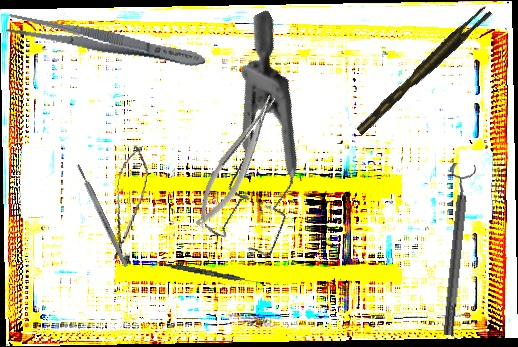Dressing Forceps: (3, 9, 209, 75)
Fixation Ring: (433, 162, 479, 337)
Micro Scissor: (104, 142, 153, 264)
Needle Holder: (184, 90, 290, 234)
Scalpel Handle: (75, 163, 129, 268)
Spatula Surgical: (150, 259, 267, 287)
Speculum: (130, 9, 368, 275)
Tissue Forceps: (349, 4, 497, 136)
